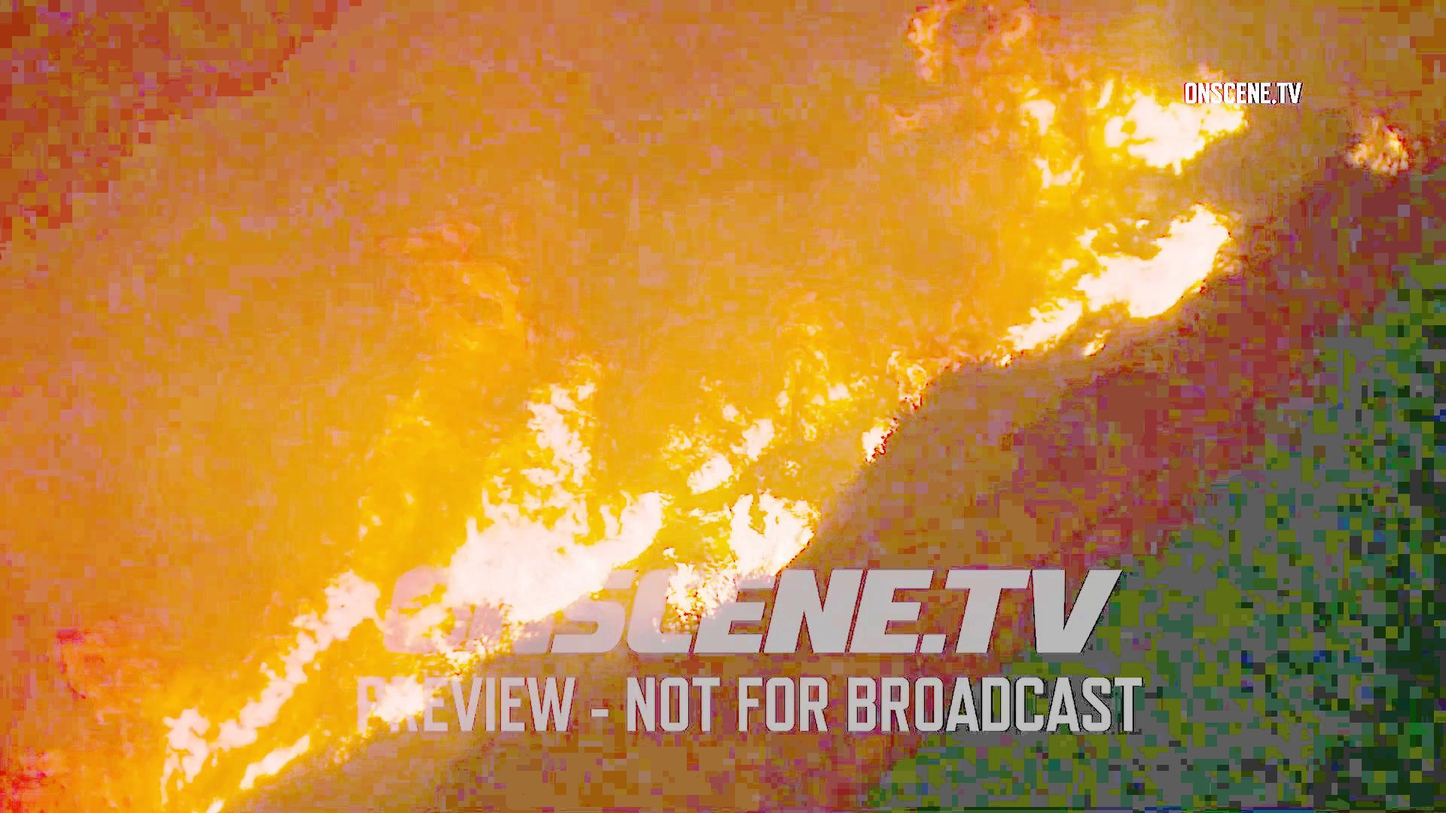fire: (319, 269, 603, 652), (36, 567, 242, 800), (676, 292, 882, 460)
